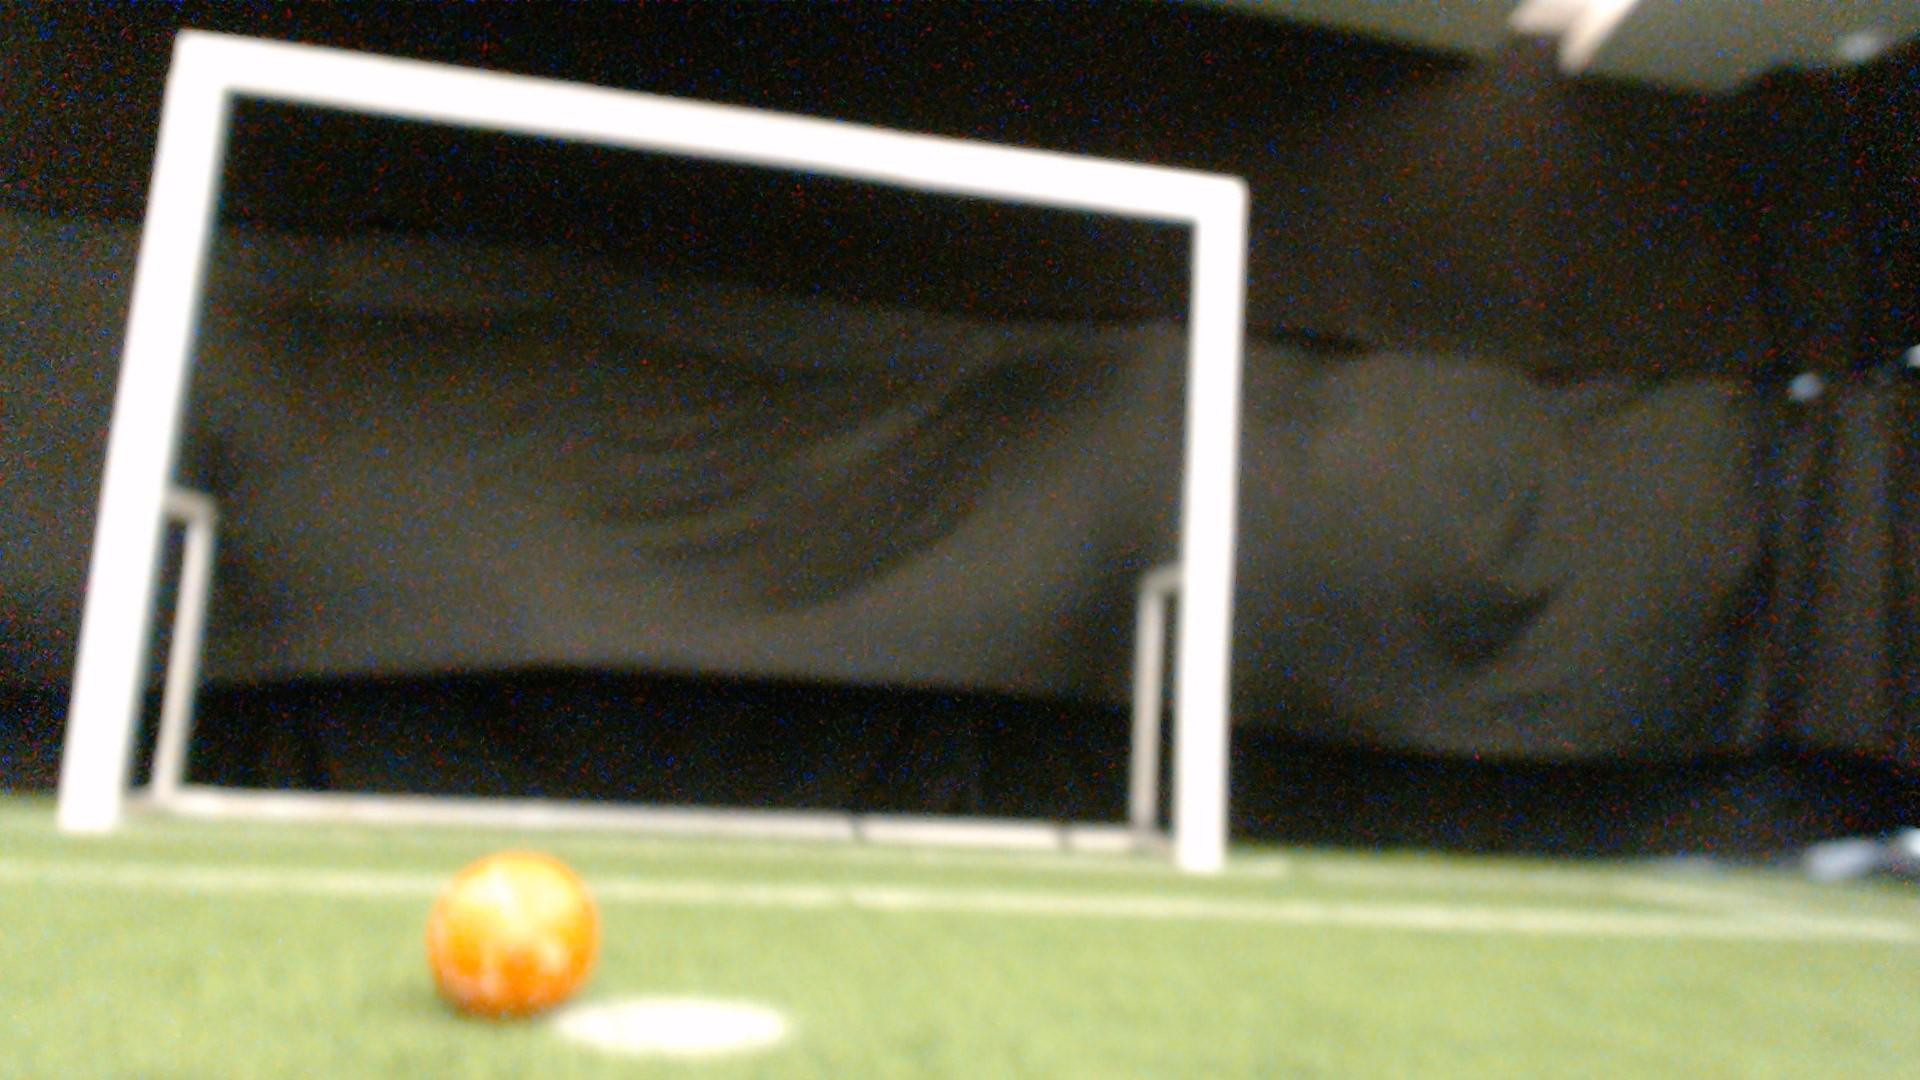bola: (407, 843, 625, 1030)
